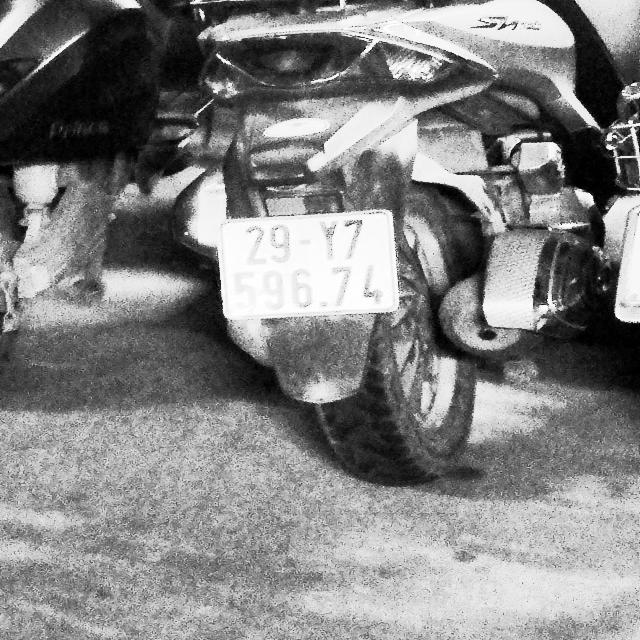license_plate: (222, 210, 397, 317)
